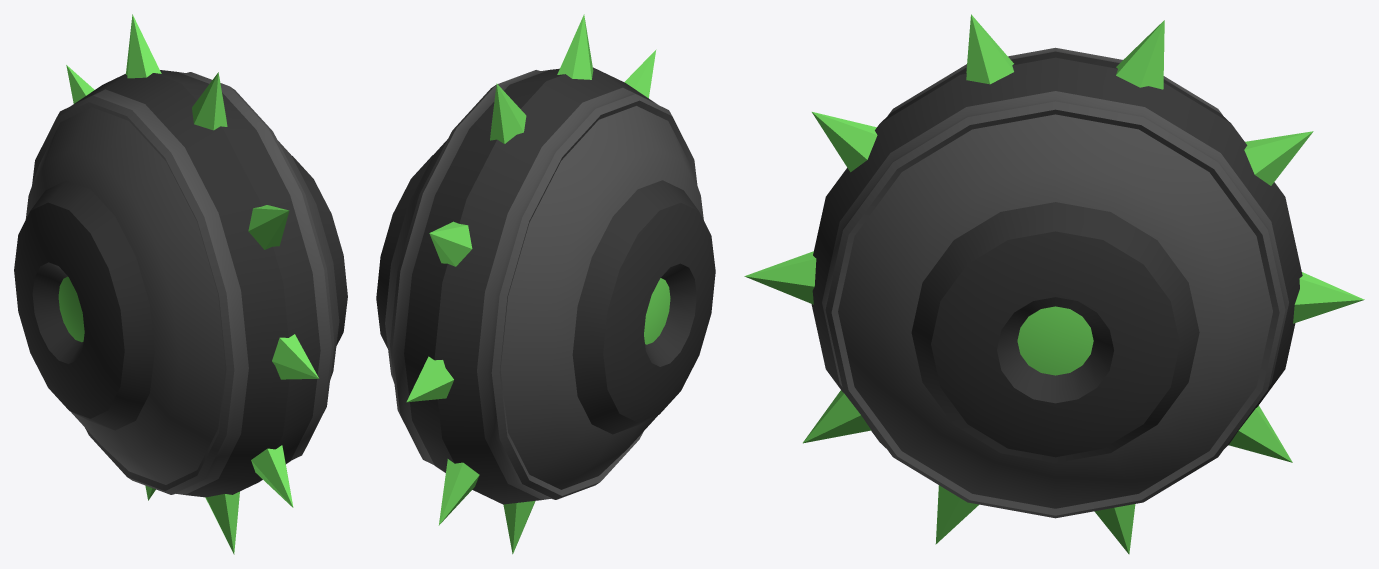
Rendered from Bossbulletmesh.fbx.
3 renders of one model, left to right at view 1: azimuth 30°, elevation 25°; view 2: azimuth 150°, elevation 25°; view 3: azimuth 270°, elevation 25°, orthographic. The views are drawn at different scales.
Parts seen in each view (by area): view 1: Cone; view 2: Cone; view 3: Cone.
Boxes of the visible parts, x1,y1,x2,y2 form: Cone: (14,14,347,554); Cone: (376,14,715,554); Cone: (744,14,1364,554).
Size of the model in its own units: 11.28 by 21.17 by 22.02.
